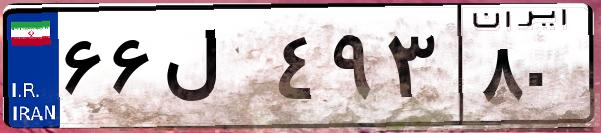0: (525, 38, 570, 115)
3: (385, 28, 445, 110)
4: (270, 28, 330, 110)
6: (57, 26, 110, 100), (110, 28, 158, 98)
8: (475, 38, 525, 113)
9: (330, 28, 385, 110)
ل: (158, 20, 270, 120)
